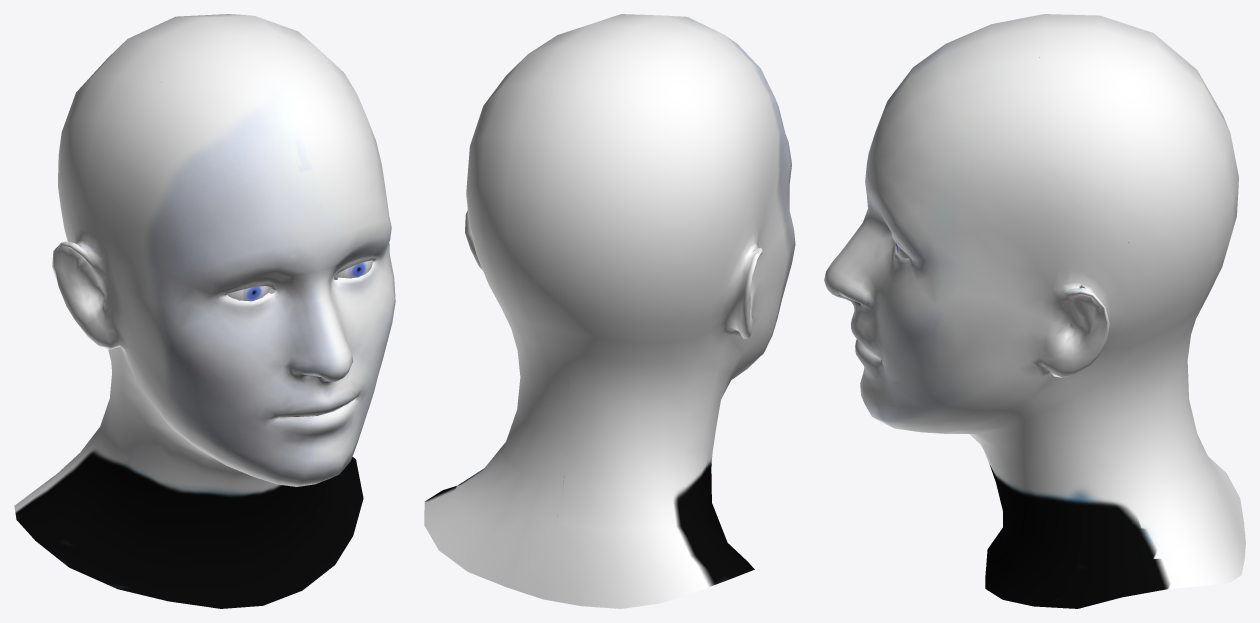
The model's file is android1.glb.
3 renders of one model, left to right at view 1: azimuth 30°, elevation 25°; view 2: azimuth 150°, elevation 25°; view 3: azimuth 270°, elevation 25°, orthographic. The views are drawn at different scales.
Visible parts, largest first — view 1: FBHead; view 2: FBHead; view 3: FBHead.
Part boxes in pixels (box(x1,y1,x2,y2)): FBHead: box(14, 14, 395, 608); FBHead: box(424, 14, 795, 608); FBHead: box(824, 14, 1245, 608).
Bounding box in the file's own units: 1.77 × 2.91 × 2.04.
Materials: 2 (2 with a texture image).
